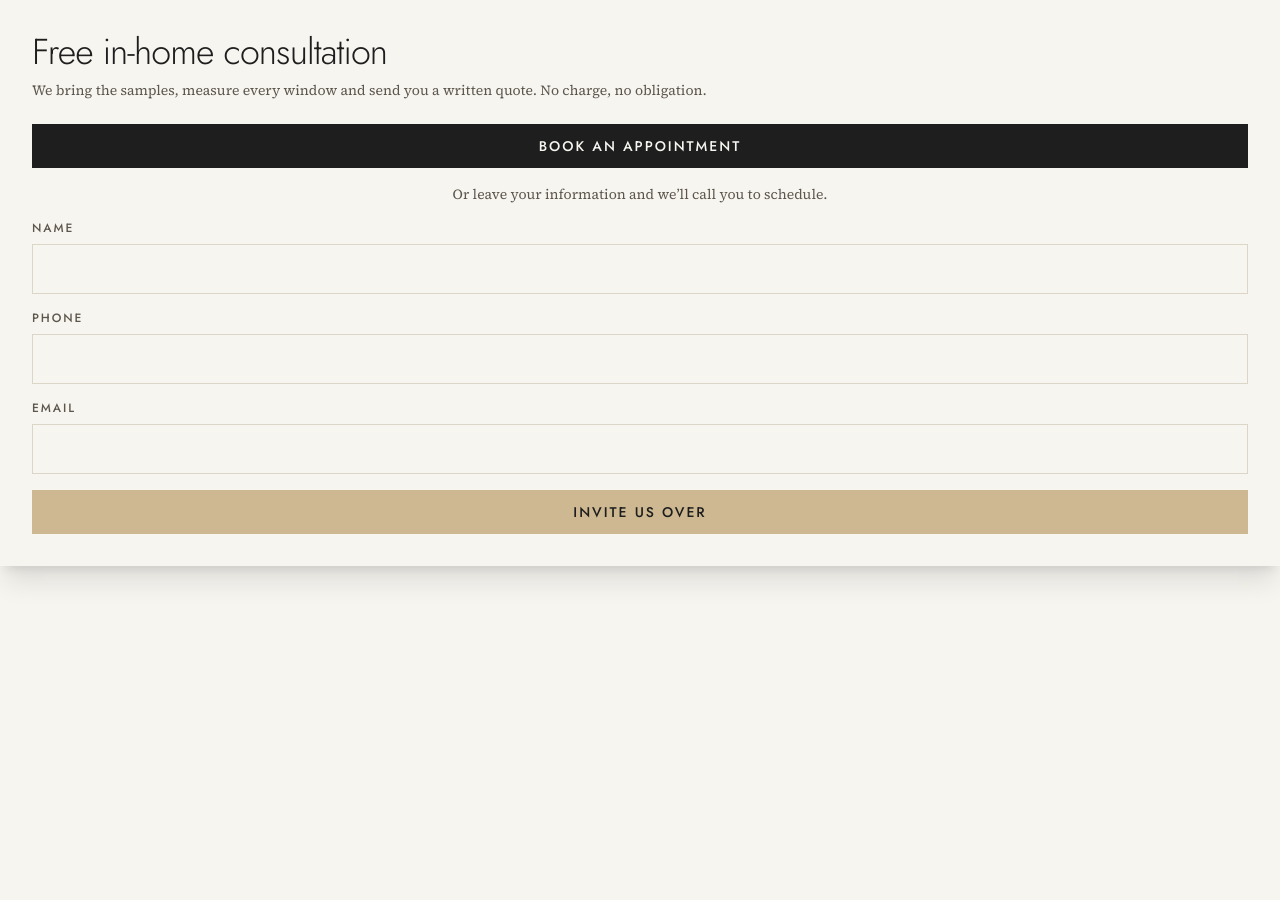
Scenario: Pick a time on the home form › shows the days as a calendar, with a day that has no times greyed out
Click the button "Book an Appointment" at (640, 146), box [32,124,1248,168]
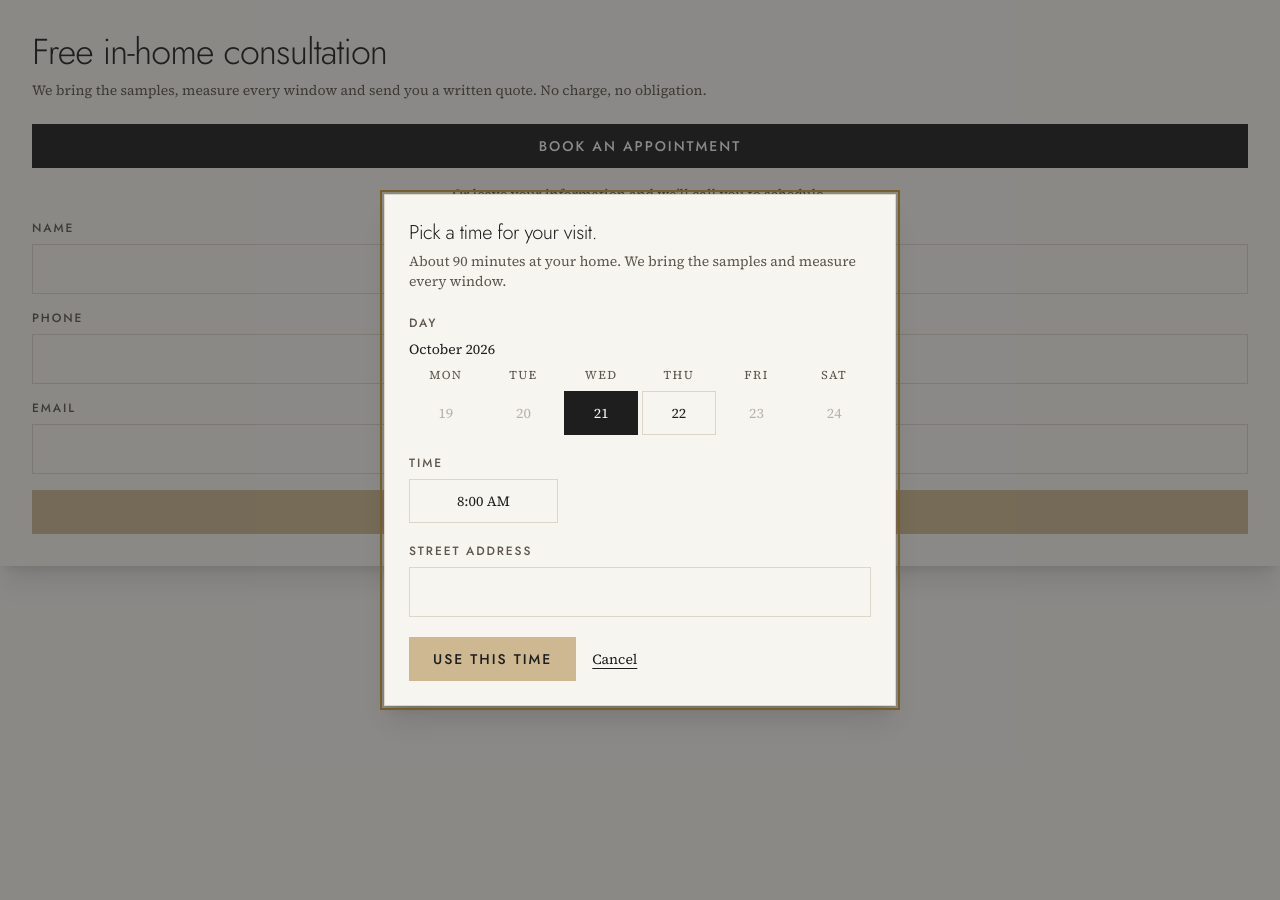
Now the text "October 2026" is shown, box [409,339,495,359]
Now the button named "Wednesday, October 21" is enabled, box [564,391,638,435]
Now the button named "Friday, October 23" is disabled, box [720,391,793,435]
